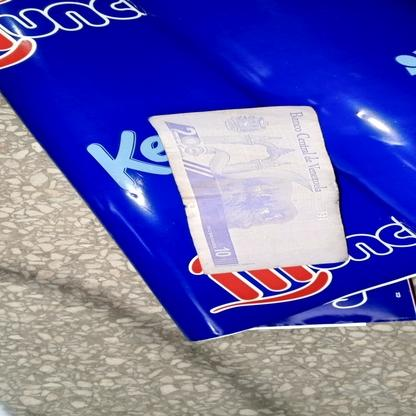ten-back-vef: (146, 106, 350, 276)
